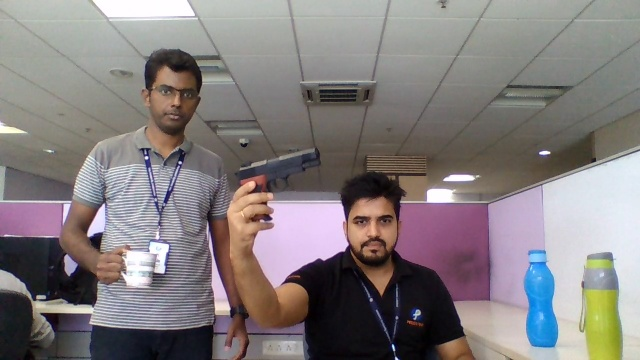gun: (234, 150, 320, 191)
